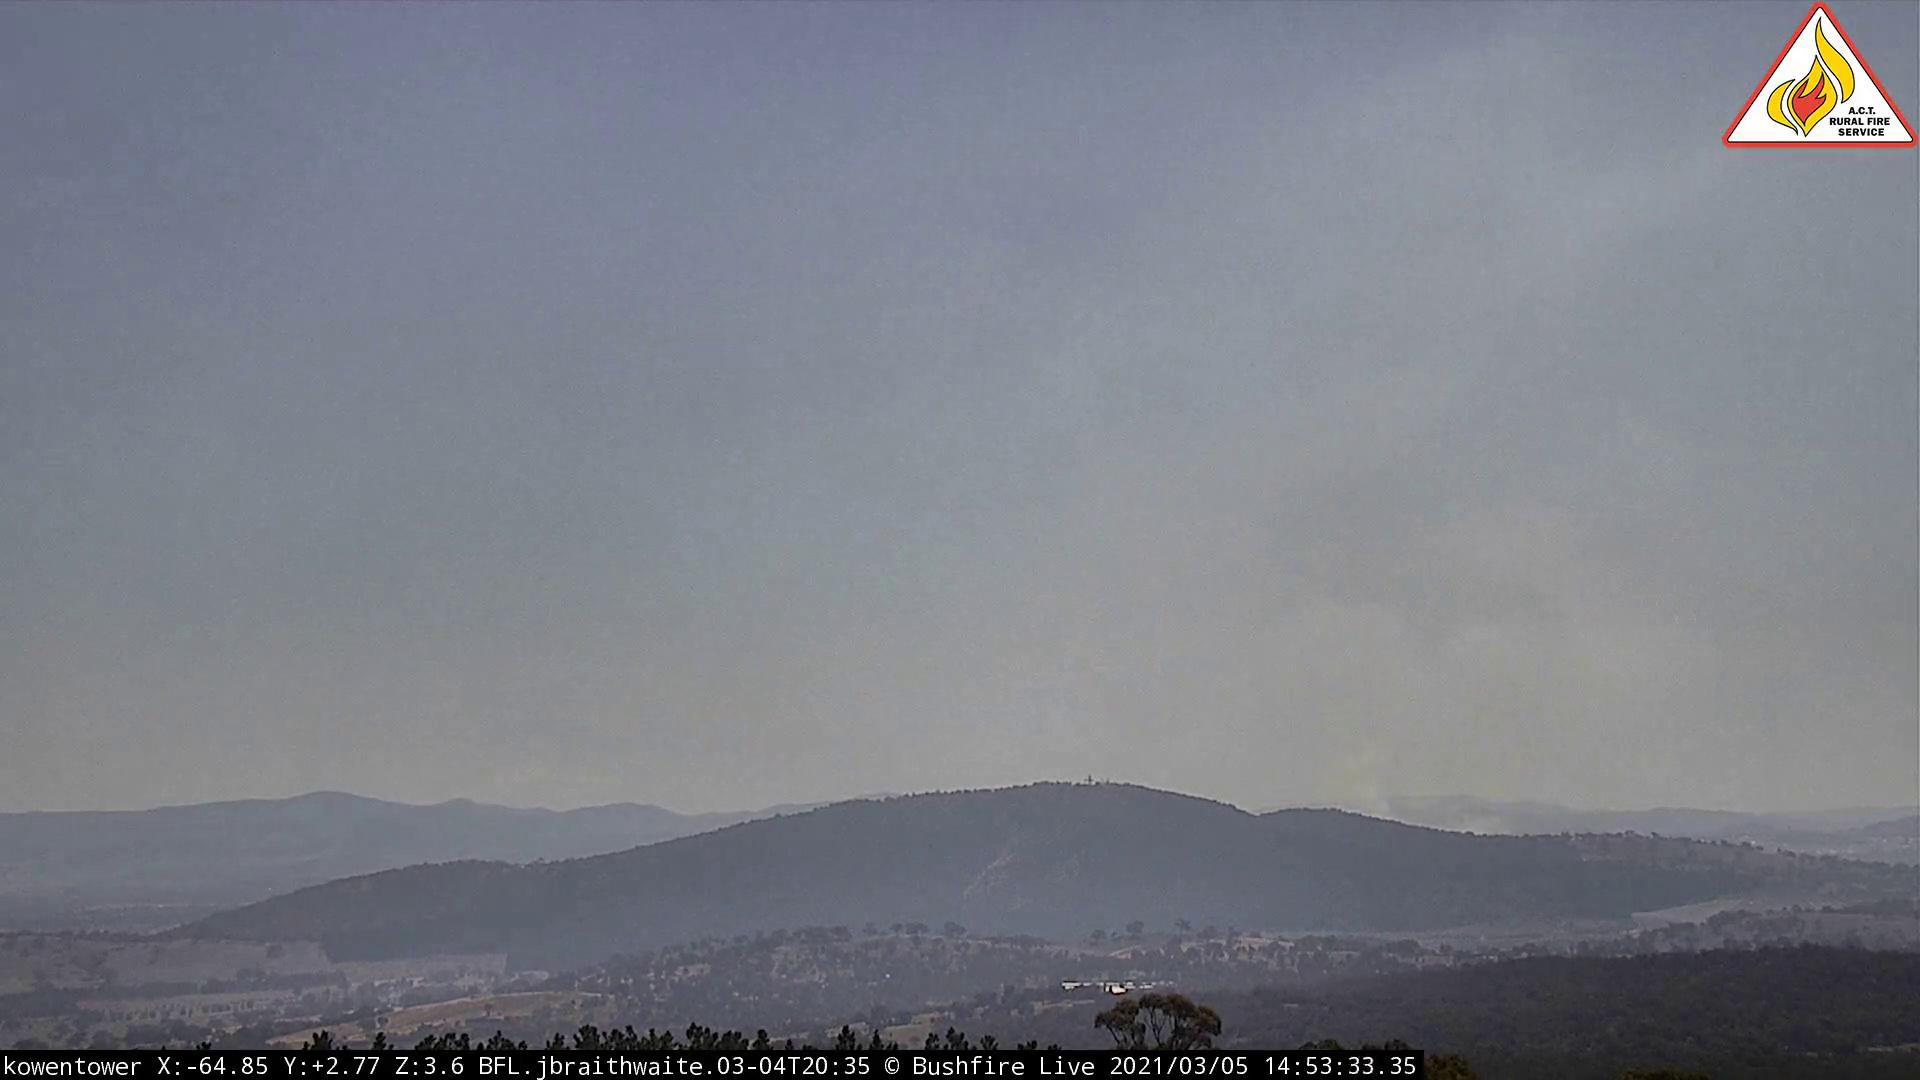Smoke: (1033, 414, 1844, 847)
